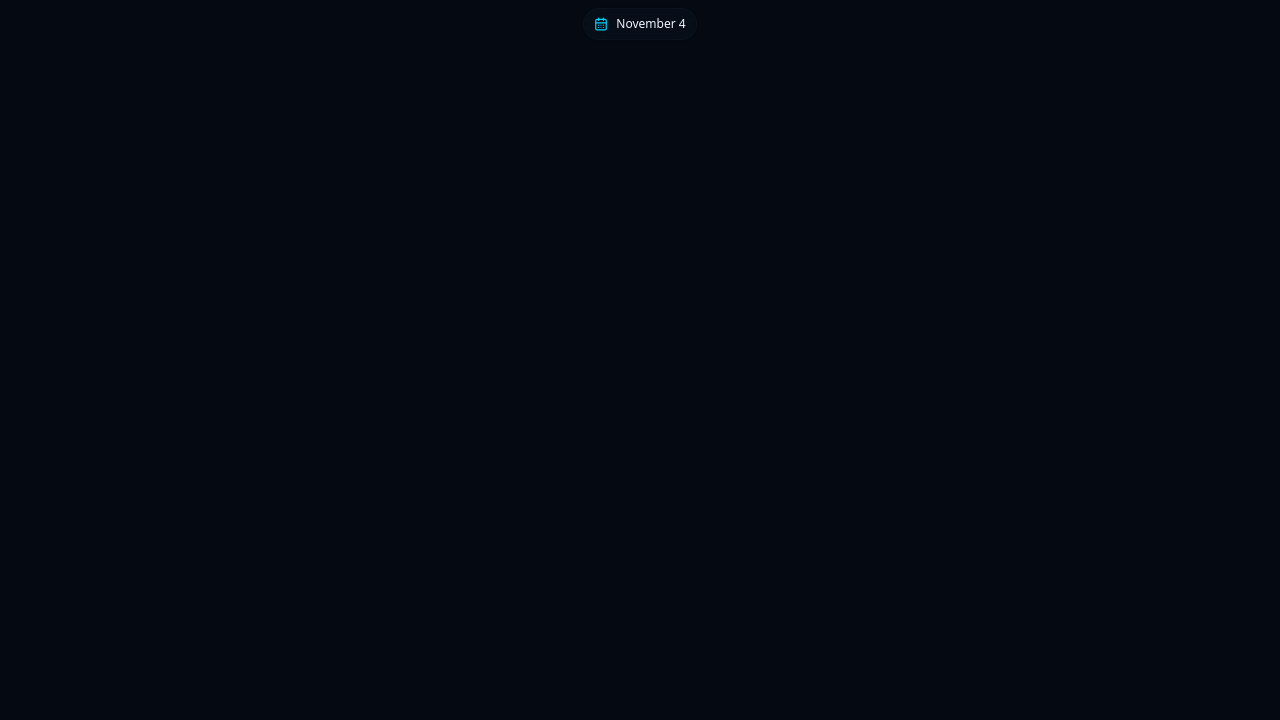
Test: message calendar › keeps the calendar open when navigating fails and allows retry
Later steps or results of the test are not shown.
Step 1. Click the button with aria-label "Jump to date" → {"x": 640, "y": 24}, box [583,8,697,40]
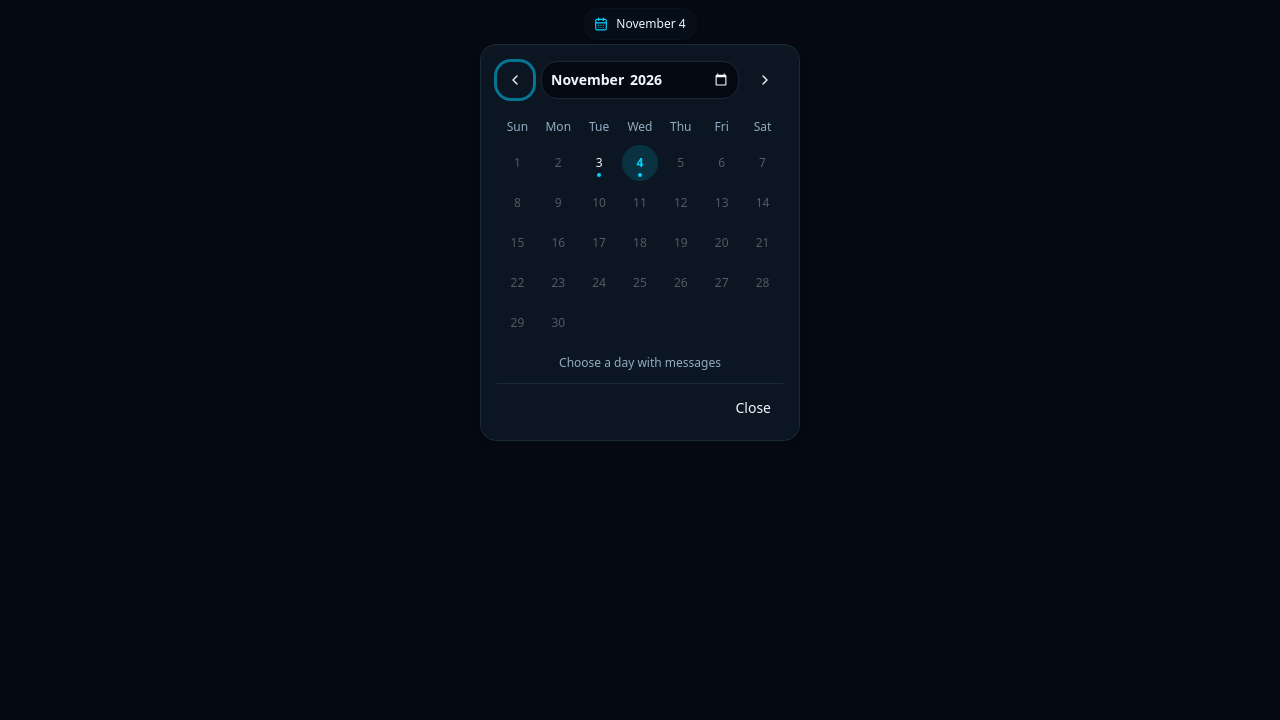
Step 2. Click the button "3" → {"x": 599, "y": 163}, box [581,145,617,181]
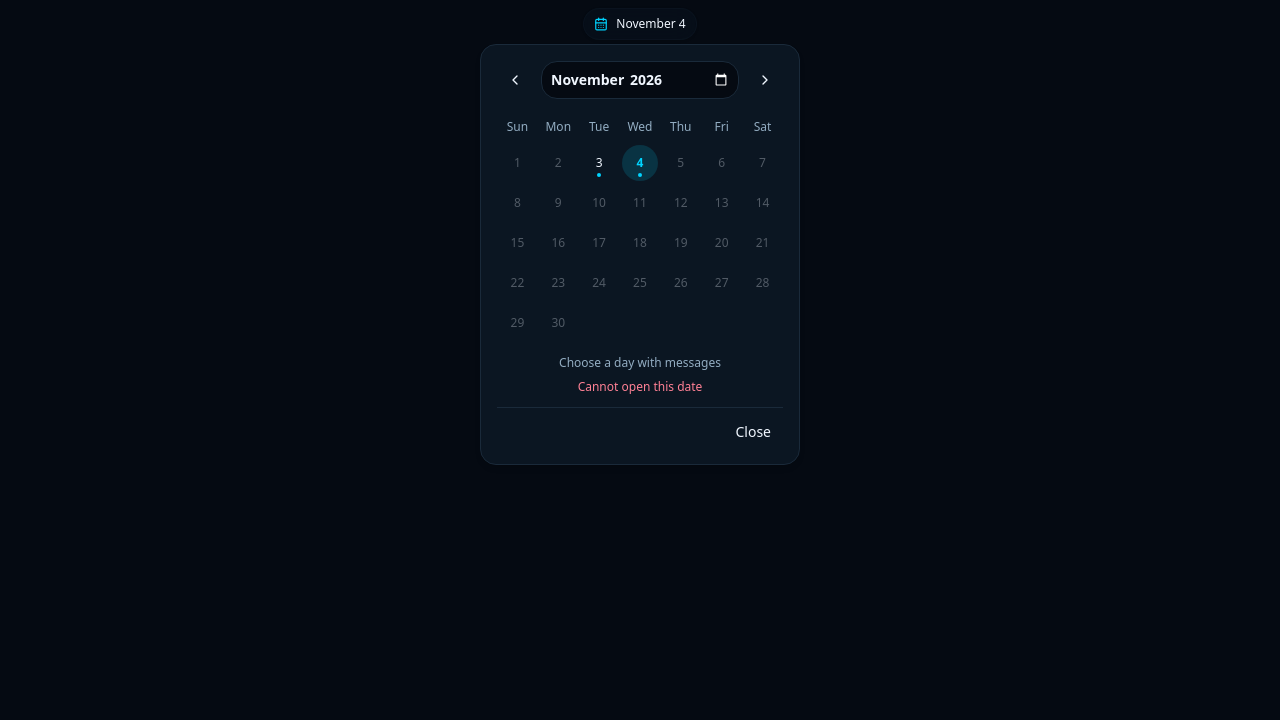
expect the text "Cannot open this date" is shown: met, box [578,378,702,395]
